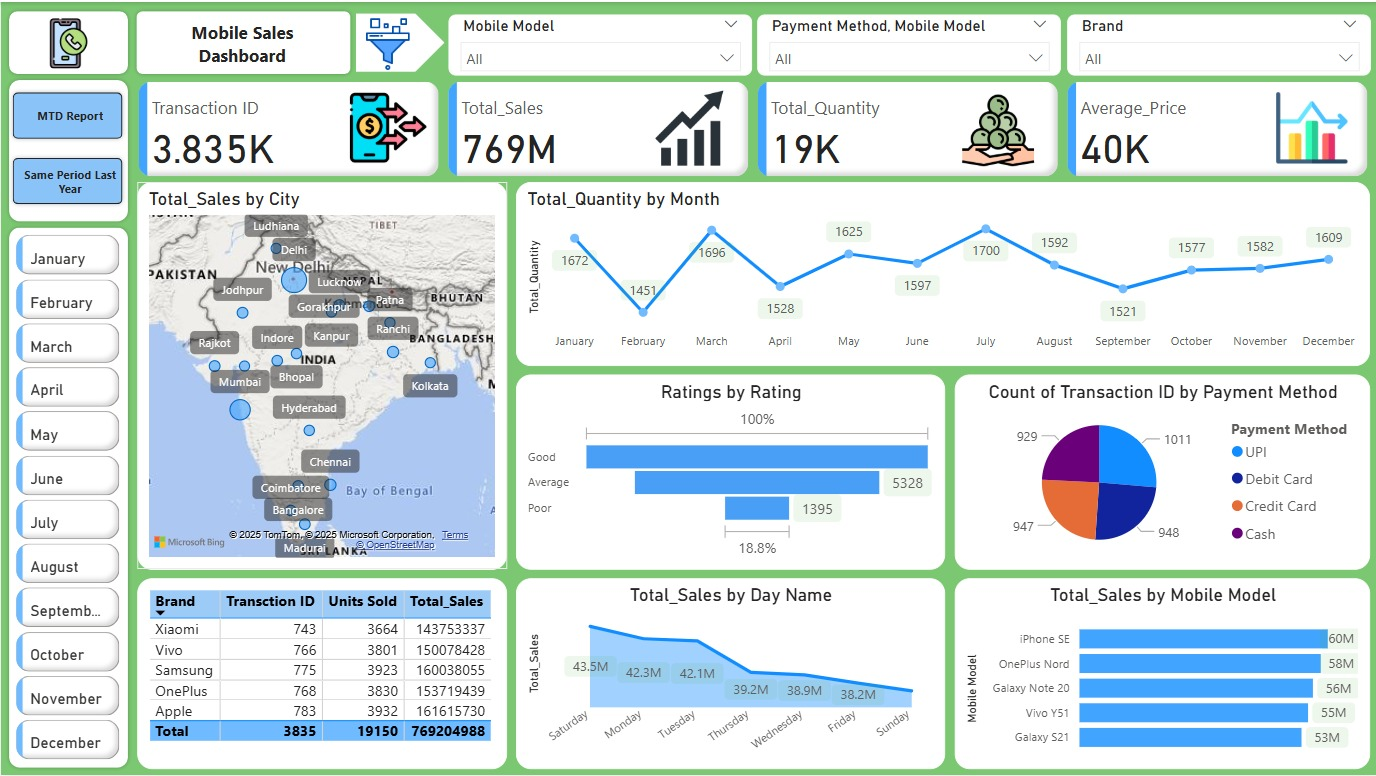

What the dashboard file says about the page in this screenshot:
{"tool":"powerbi","page":{"name":"Dashboard","canvas":[1280,720],"ordinal":0},"visuals":[{"type":"shape","box":[3.5,4.7,118.6,66.3],"z":0},{"type":"shape","box":[3.5,68.6,118.6,139.5],"z":1000},{"type":"image","box":[34.9,10.5,55.8,55.8],"z":2000},{"type":"shape","box":[3.5,205.8,118.6,510.5],"z":3000},{"type":"advancedSlicerVisual","fields":{"Values":["Custom_Calendar.Date.Variation.Date Hierarchy.Month"]},"box":[9.3,211.8,107,508.1],"z":4000},{"type":"shape","box":[122.1,4.7,207,66.3],"z":5000},{"type":"textbox","box":[160.5,11.6,127.9,53.5],"z":6000},{"type":"shape","box":[330.2,10.5,82.6,54.7],"z":7000},{"type":"image","box":[330.2,0,59.3,79.1],"z":8000},{"type":"slicer","fields":{"Values":["Sales_Data.Mobile Model"]},"box":[416.3,11.6,282.6,57],"z":9000},{"type":"slicer","fields":{"Values":["Sales_Data.Payment Method","Sales_Data.Mobile Model"]},"box":[703.5,11.6,282.6,57],"z":10000},{"type":"slicer","fields":{"Values":["Sales_Data.Brand"]},"box":[991.9,11.6,282.6,57],"z":11000},{"type":"cardVisual","fields":{"Data":["CountNonNull(Sales_Data.Transaction ID)","Sales_Data.Total_Sales","Sales_Data.Total_Quantity","Sales_Data.Average_Price"]},"box":[123.8,71.2,1156.2,96.2],"z":12000},{"type":"map","fields":{"Category":["Sales_Data.City"],"Size":["Sales_Data.Total_Sales"]},"box":[126.7,167.4,344.2,360.5],"z":13000},{"type":"lineChart","fields":{"Y":["Sales_Data.Total_Quantity"],"Category":["Custom_Calendar.Date.Variation.Date Hierarchy.Month"]},"box":[479.1,167.4,794.2,170.9],"z":14000},{"type":"funnel","fields":{"Category":["Sales_Data.Rating"],"Y":["Sum(Sales_Data.Customer Ratings)"]},"box":[479.1,346.5,398.8,181.4],"z":15000},{"type":"pieChart","fields":{"Y":["CountNonNull(Sales_Data.Transaction ID)"],"Category":["Sales_Data.Payment Method"]},"box":[887.5,346.2,386.2,181.2],"z":16000},{"type":"tableEx","fields":{"Values":["Sales_Data.Brand","CountNonNull(Sales_Data.Transaction ID)","Sum(Sales_Data.Units Sold)","Sales_Data.Total_Sales"]},"box":[126.7,536,344.2,177.9],"z":17000},{"type":"stackedAreaChart","fields":{"Y":["Sales_Data.Total_Sales"],"Category":["Custom_Calendar.Day Name"]},"box":[479.1,536,398.8,177.9],"z":18000},{"type":"barChart","fields":{"Y":["Sales_Data.Total_Sales"],"Category":["Sales_Data.Mobile Model"]},"box":[887.5,536.2,386.2,177.5],"z":19000},{"type":"image","box":[887.5,78.8,81.2,81.2],"z":20000},{"type":"image","box":[320,71.2,81.2,92.5],"z":21000},{"type":"image","box":[1181.2,78.8,76.2,76.2],"z":22000},{"type":"image","box":[593.8,71.2,92.5,92.5],"z":23000},{"type":"pageNavigator","box":[7,80.2,110.5,114],"z":24000}]}

Visuals, with their boxes in screenshot pixels (x1, y1, x2, y2), scaled from the page's 1280x720 canvas onto the 1376x776 screenshot:
shape: box=[4, 5, 131, 77]
shape: box=[4, 74, 131, 224]
image: box=[38, 11, 98, 71]
shape: box=[4, 222, 131, 772]
advancedSlicerVisual - Custom_Calendar.Date.Variation.Date Hierarchy.Month: box=[10, 228, 125, 775]
shape: box=[131, 5, 354, 77]
textbox: box=[173, 13, 310, 70]
shape: box=[355, 11, 444, 70]
image: box=[355, 0, 419, 85]
slicer - Sales_Data.Mobile Model: box=[448, 13, 751, 74]
slicer - Sales_Data.Payment Method x Sales_Data.Mobile Model: box=[756, 13, 1060, 74]
slicer - Sales_Data.Brand: box=[1066, 13, 1370, 74]
cardVisual - CountNonNull(Sales_Data.Transaction ID) x Sales_Data.Total_Sales: box=[133, 77, 1375, 180]
map - Sales_Data.City x Sales_Data.Total_Sales: box=[136, 180, 506, 569]
lineChart - Sales_Data.Total_Quantity x Custom_Calendar.Date.Variation.Date Hierarchy.Month: box=[515, 180, 1369, 365]
funnel - Sales_Data.Rating x Sum(Sales_Data.Customer Ratings): box=[515, 373, 944, 569]
pieChart - CountNonNull(Sales_Data.Transaction ID) x Sales_Data.Payment Method: box=[954, 373, 1369, 568]
tableEx - Sales_Data.Brand x CountNonNull(Sales_Data.Transaction ID): box=[136, 578, 506, 769]
stackedAreaChart - Sales_Data.Total_Sales x Custom_Calendar.Day Name: box=[515, 578, 944, 769]
barChart - Sales_Data.Total_Sales x Sales_Data.Mobile Model: box=[954, 578, 1369, 769]
image: box=[954, 85, 1041, 172]
image: box=[344, 77, 431, 176]
image: box=[1270, 85, 1352, 167]
image: box=[638, 77, 738, 176]
pageNavigator: box=[8, 86, 126, 209]
